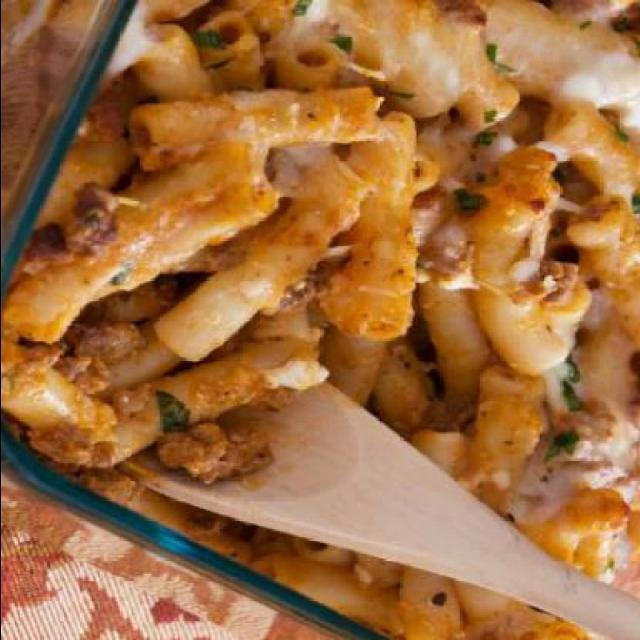Pasta al ragu: (66, 10, 622, 522)
